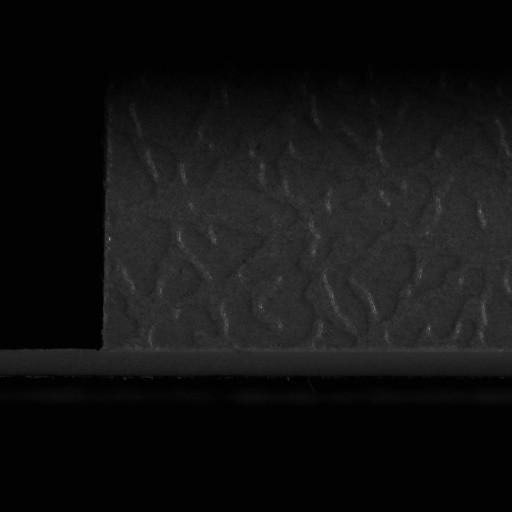changdai: (2, 346, 106, 377)
